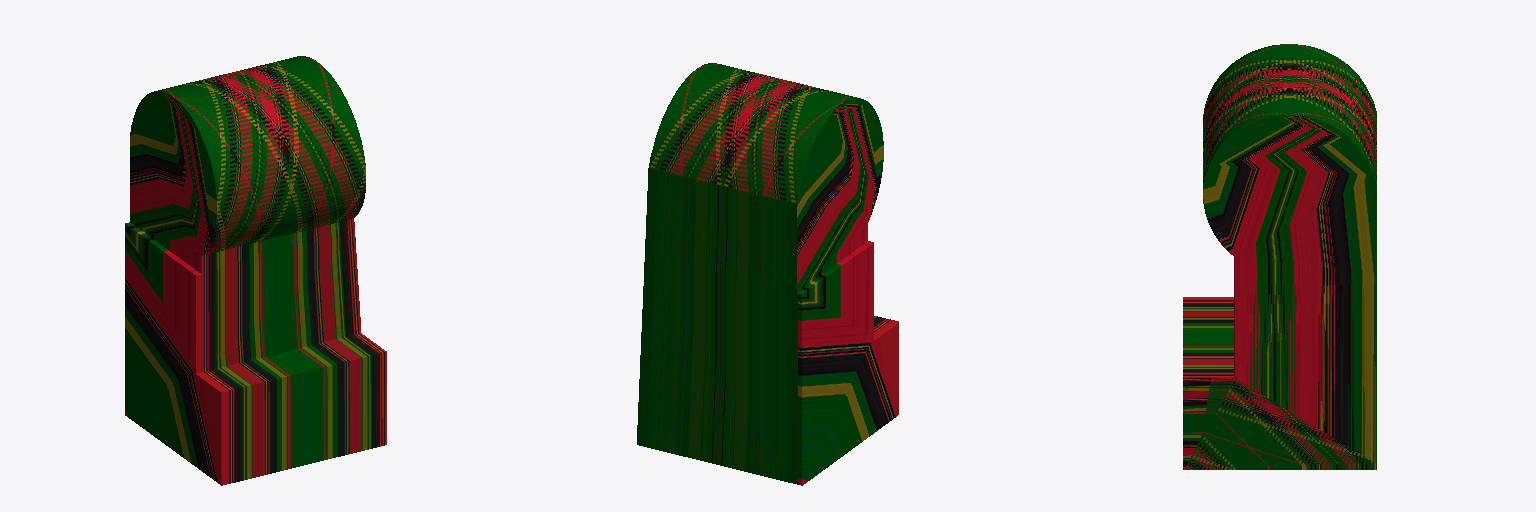
The picture shows the model from 3 angles: view 1: azimuth 30°, elevation 25°; view 2: azimuth 150°, elevation 25°; view 3: azimuth 270°, elevation 25°; orthographic projection.
Parts seen in each view (by area): view 1: PieIzquierdo; view 2: PieIzquierdo; view 3: PieIzquierdo.
Part boxes in pixels (x1,y1,x2,y2): PieIzquierdo: (125,56,386,485); PieIzquierdo: (637,63,898,485); PieIzquierdo: (1183,44,1376,469).
Size of the model in its own units: 1.11 by 2.22 by 1.12.
1 materials, 1 textured.